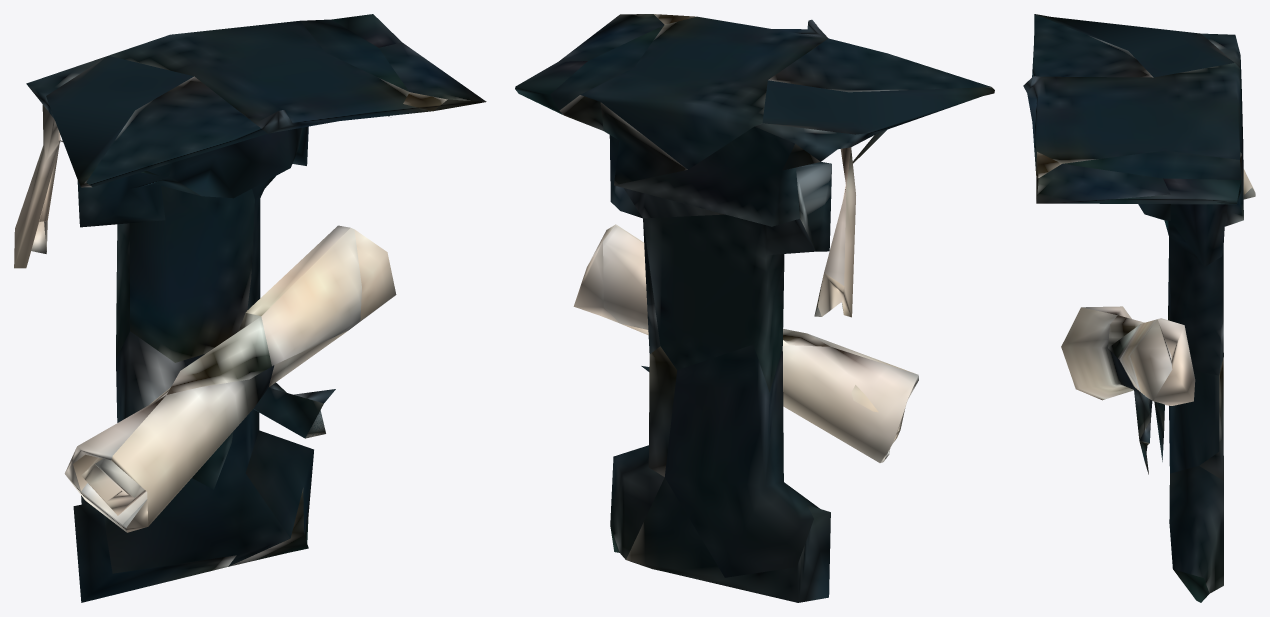
The picture shows the model from 3 angles, left to right: view 1: azimuth 30°, elevation 25°; view 2: azimuth 150°, elevation 25°; view 3: azimuth 270°, elevation 25°; orthographic projection. The views are drawn at different scales.
Visible parts, largest first — view 1: Graduation-I; view 2: Graduation-I; view 3: Graduation-I.
Boxes of the visible parts, x1,y1,x2,y2 form: Graduation-I: (14, 14, 486, 602); Graduation-I: (515, 14, 994, 602); Graduation-I: (1023, 14, 1255, 602).
Bounding box in the file's own units: 0.2119 × 0.2675 × 0.1187.
Materials: 1 (1 with a texture image).
